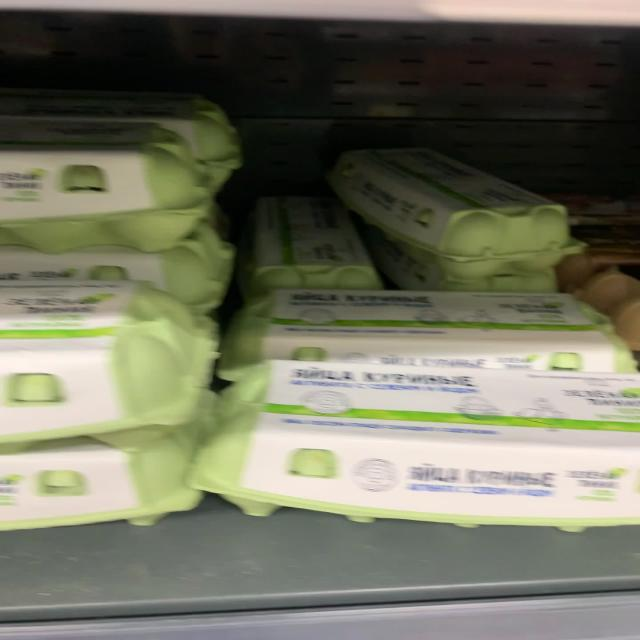egg box: (182, 362, 637, 534), (218, 279, 633, 385), (1, 283, 225, 449), (328, 143, 584, 274), (2, 115, 212, 250), (5, 83, 239, 190), (0, 234, 236, 314), (246, 190, 383, 306)
